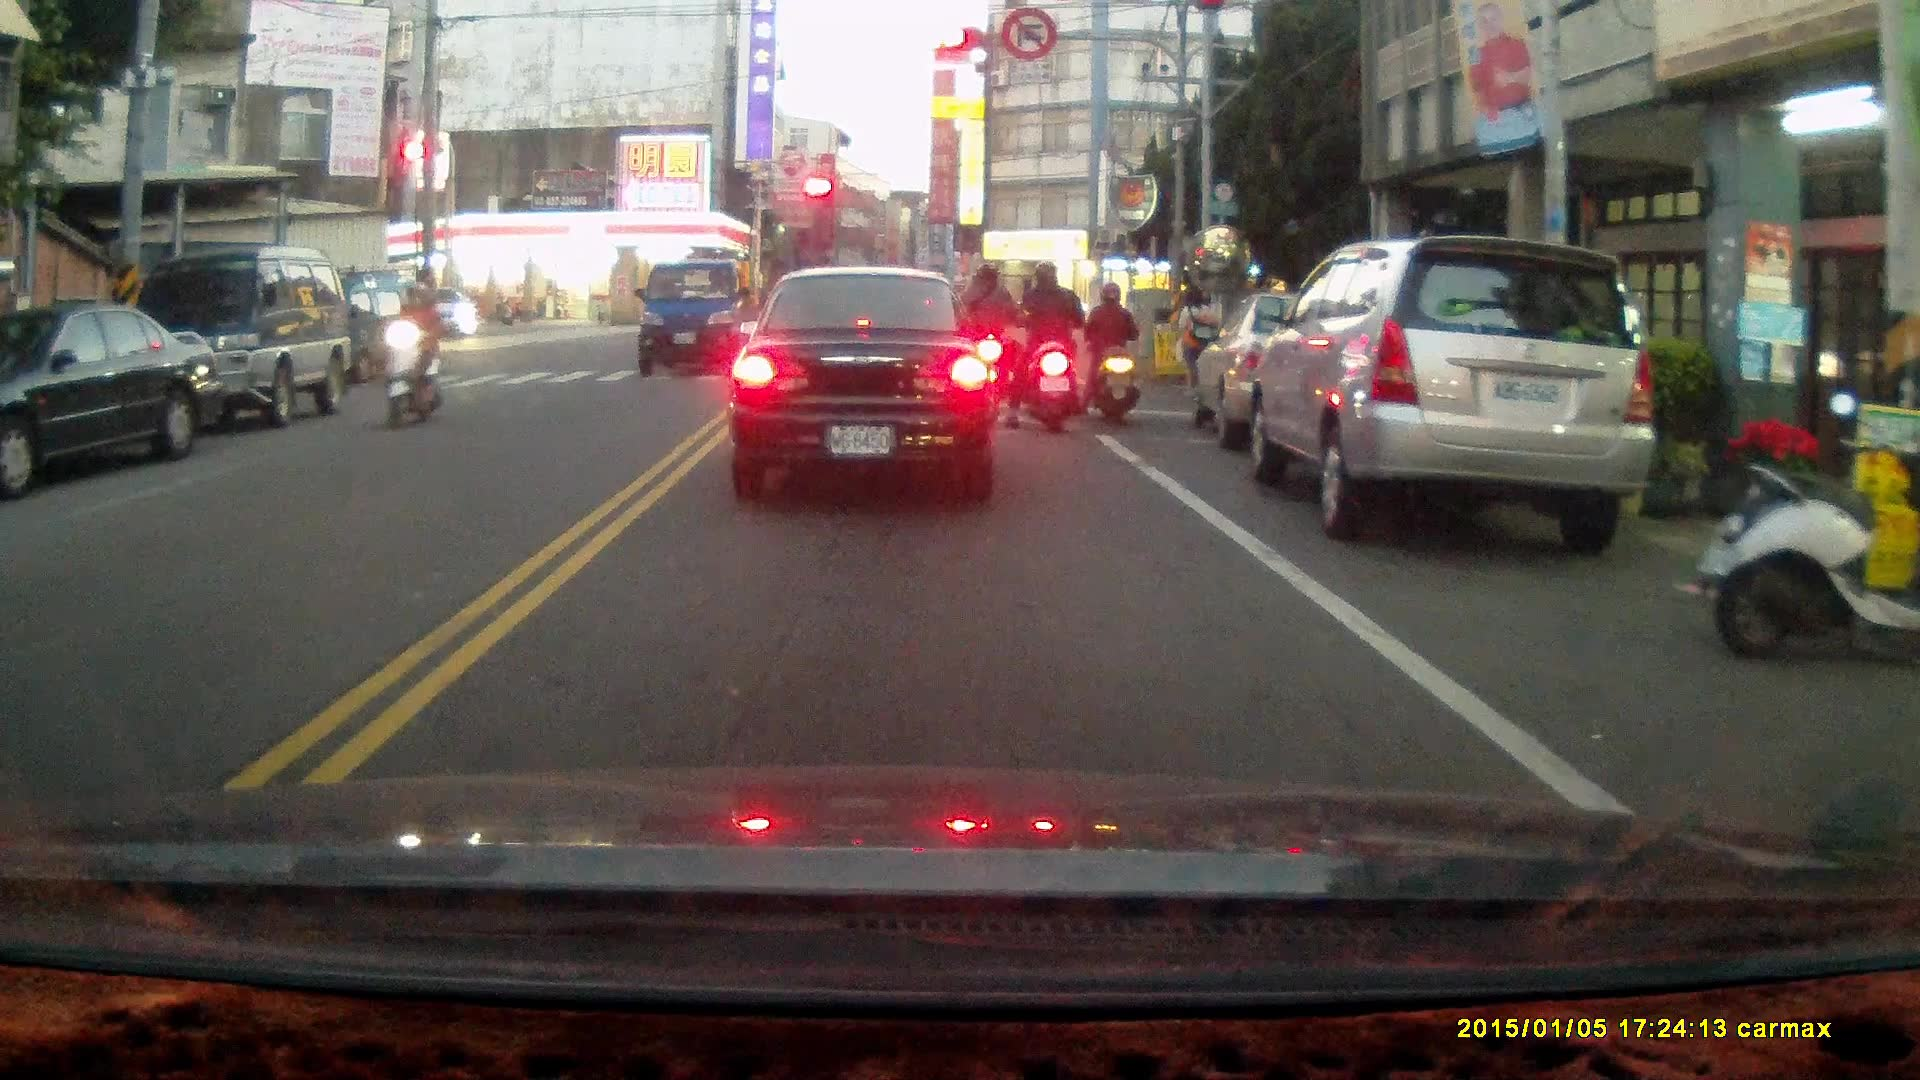pedestrian: (1173, 285, 1222, 406)
rider: (1000, 257, 1084, 435), (381, 279, 445, 429), (1078, 280, 1141, 426), (955, 266, 1014, 416)
vehicle: (1239, 235, 1654, 548), (732, 267, 1006, 500), (3, 305, 226, 503), (128, 245, 355, 427), (1192, 293, 1427, 457), (312, 271, 441, 389), (636, 265, 759, 380)
